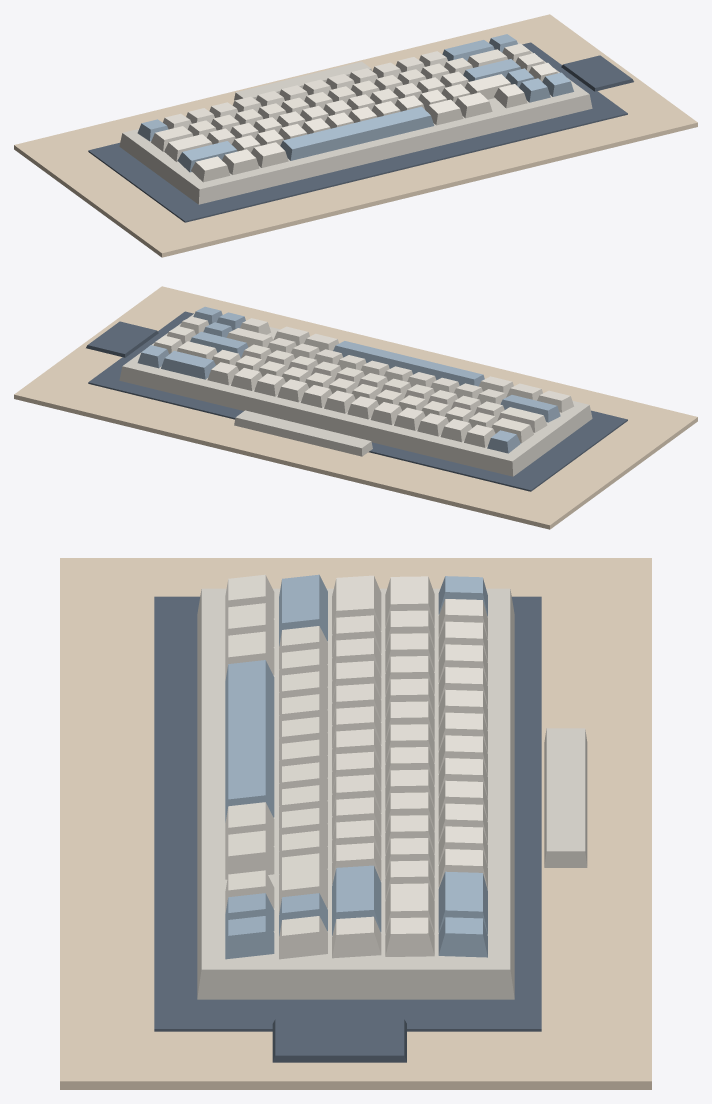
Rendered from keyboard_65_3ebd766b.glb.
The picture shows the model from 3 angles, top to bottom: view 1: azimuth 30°, elevation 25°; view 2: azimuth 150°, elevation 25°; view 3: azimuth 270°, elevation 25°; orthographic projection. The views are drawn at different scales.
Visible parts, largest first — view 1: desk, keyboard case, deskmat, key 62, mouse pad side, monitor stand, key 45, key 43, key 59, key 60, key 56, key 61 (+10 smaller); view 2: desk, keyboard case, deskmat, monitor stand, key 62, mouse pad side, key 14, key 45, key 43, key 31, key 16, key 56 (+20 smaller); view 3: desk, keyboard case, deskmat, key 62, monitor stand, mouse pad side, key 43, key 45, key 14, key 31, key 56, key 64 (+60 smaller).
Part boxes in pixels (x1,y1,x2,y2): desk: [14, 14, 697, 257]; keyboard case: [119, 41, 592, 204]; deskmat: [88, 42, 627, 222]; key 62: [280, 106, 434, 160]; mouse pad side: [561, 55, 633, 91]; monitor stand: [234, 61, 371, 100]; key 45: [177, 141, 237, 172]; key 43: [463, 59, 520, 81]; key 59: [191, 156, 230, 182]; key 60: [222, 149, 259, 174]; key 56: [465, 74, 511, 99]; key 61: [251, 142, 288, 167]; desk: [14, 286, 697, 529]; keyboard case: [119, 313, 592, 476]; deskmat: [88, 311, 627, 491]; monitor stand: [234, 410, 372, 456]; key 62: [333, 341, 484, 386]; mouse pad side: [86, 321, 158, 357]; key 14: [161, 350, 215, 379]; key 45: [500, 395, 560, 422]; key 43: [190, 331, 248, 357]; key 31: [497, 407, 547, 432]; key 16: [491, 418, 533, 443]; key 56: [226, 328, 273, 347]; desk: [60, 558, 651, 1089]; keyboard case: [197, 588, 514, 999]; deskmat: [154, 596, 541, 1031]; key 62: [225, 660, 274, 822]; monitor stand: [544, 728, 587, 867]; mouse pad side: [272, 1019, 406, 1062]; key 43: [332, 865, 381, 935]; key 45: [279, 574, 327, 646]; key 14: [438, 871, 487, 934]; key 31: [332, 575, 381, 633]; key 56: [279, 853, 327, 913]; key 64: [225, 830, 274, 879].
Bounding box in the file's own units: 23 × 1.54 × 11.
